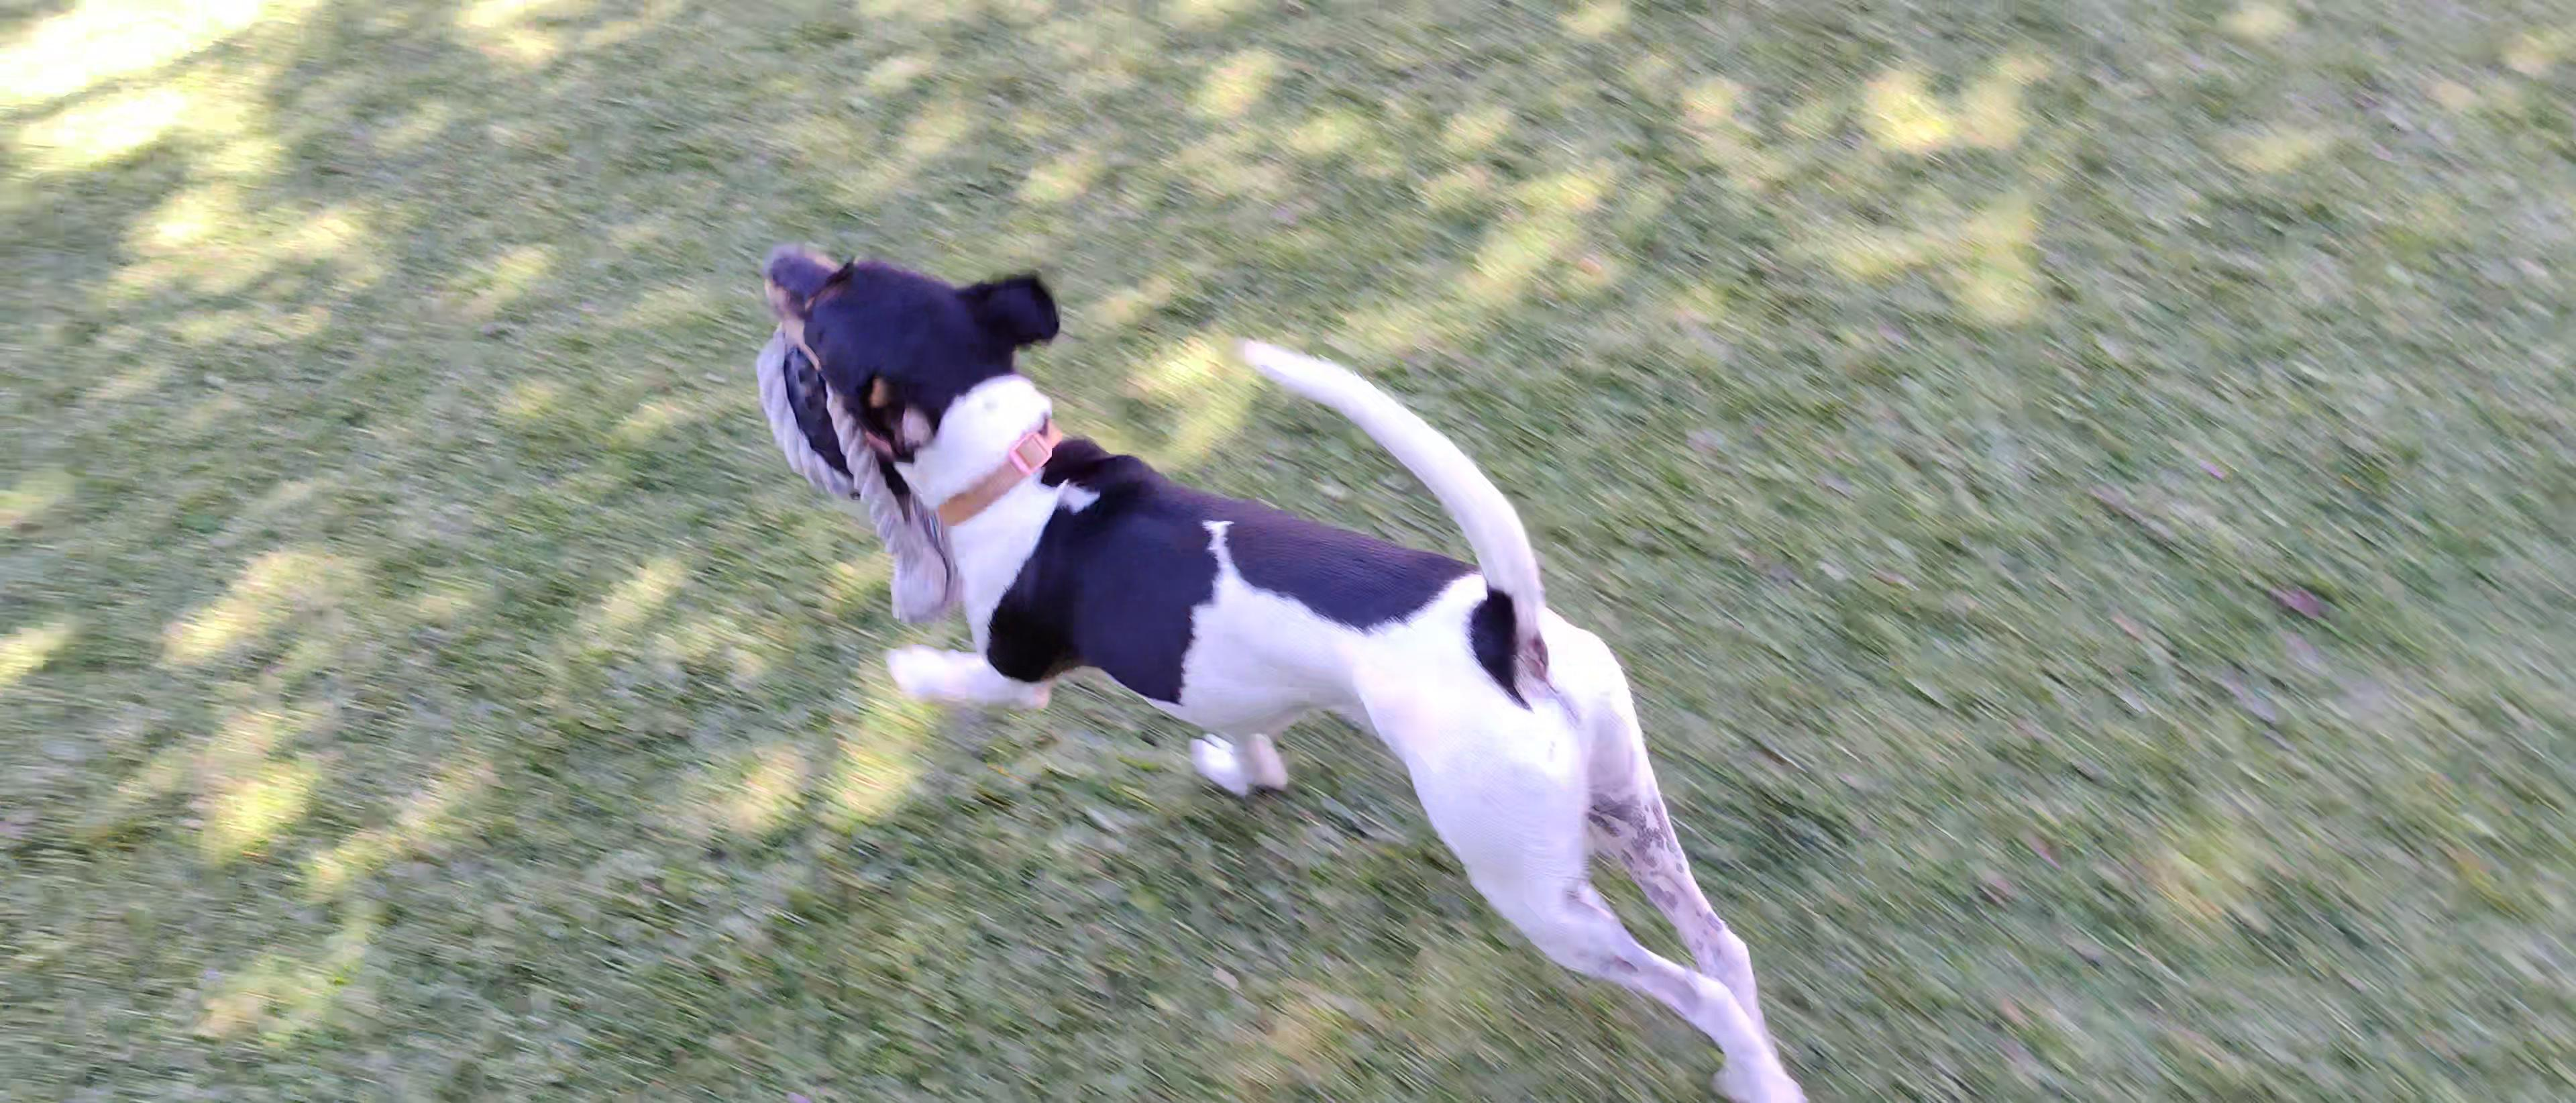Dog: (756, 186, 1840, 1103)
